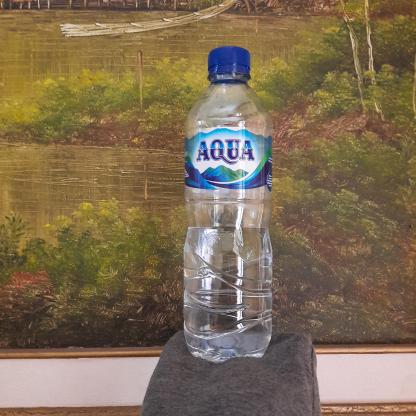plastic: (178, 46, 275, 368)
